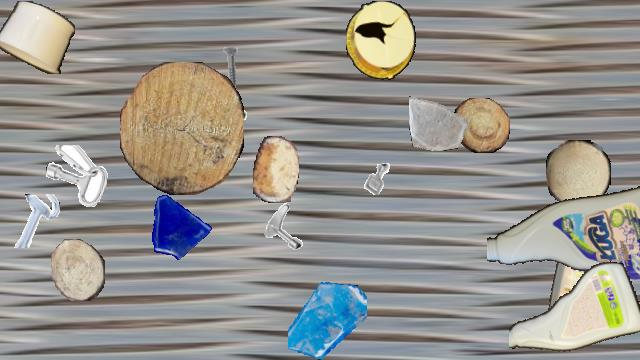glass: (288, 281, 366, 359), (142, 189, 212, 259), (409, 92, 467, 150)
metal: (195, 99, 257, 161), (46, 145, 108, 207), (8, 194, 62, 248), (258, 200, 312, 254), (207, 45, 255, 93), (356, 157, 400, 201)
plastic: (487, 176, 640, 280), (509, 257, 640, 359), (543, 217, 609, 339), (346, 1, 416, 79), (0, 1, 75, 73)
wood: (120, 62, 244, 194), (546, 140, 610, 204), (51, 239, 105, 301), (253, 136, 299, 202), (453, 98, 509, 152)
